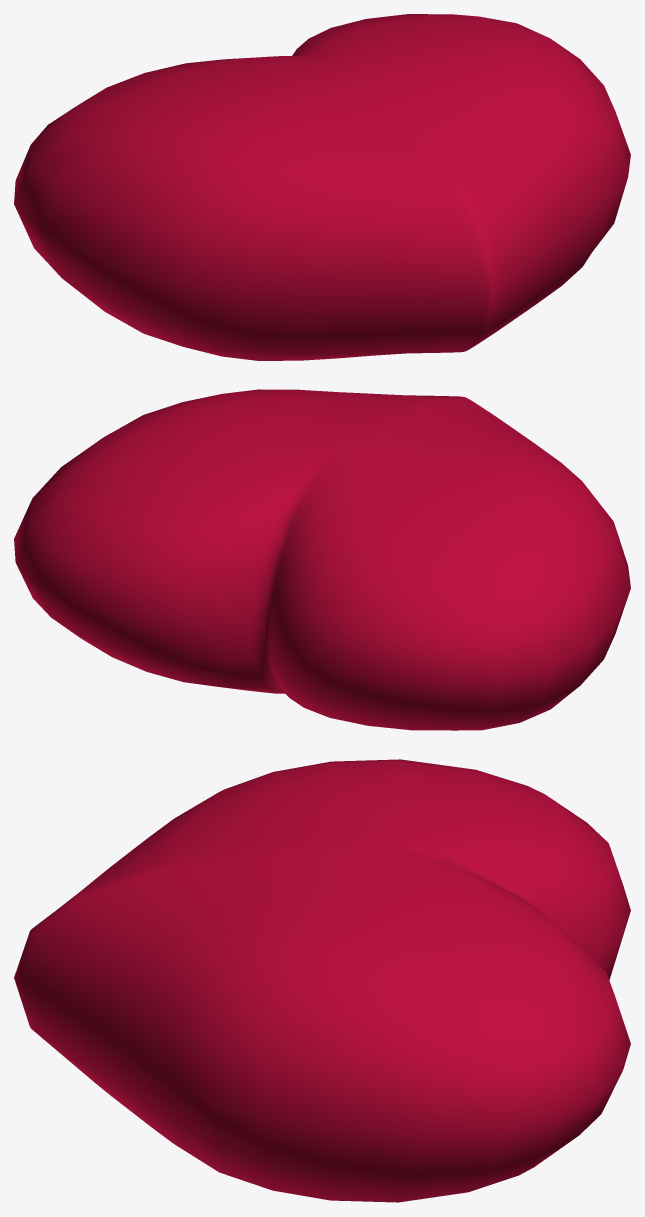
Rendered from heart2.glb.
The picture shows the model from 3 angles, top to bottom: view 1: azimuth 30°, elevation 25°; view 2: azimuth 150°, elevation 25°; view 3: azimuth 270°, elevation 25°; orthographic projection. The views are drawn at different scales.
Parts seen in each view (by area): view 1: 立方体.002; view 2: 立方体.002; view 3: 立方体.002.
Boxes of the visible parts, x1=… form: 立方体.002: x1=14, y1=14, x2=630, y2=360; 立方体.002: x1=14, y1=389, x2=630, y2=730; 立方体.002: x1=14, y1=759, x2=630, y2=1202.
Bounding box in the file's own units: 0.6247 × 0.2547 × 0.5218.
